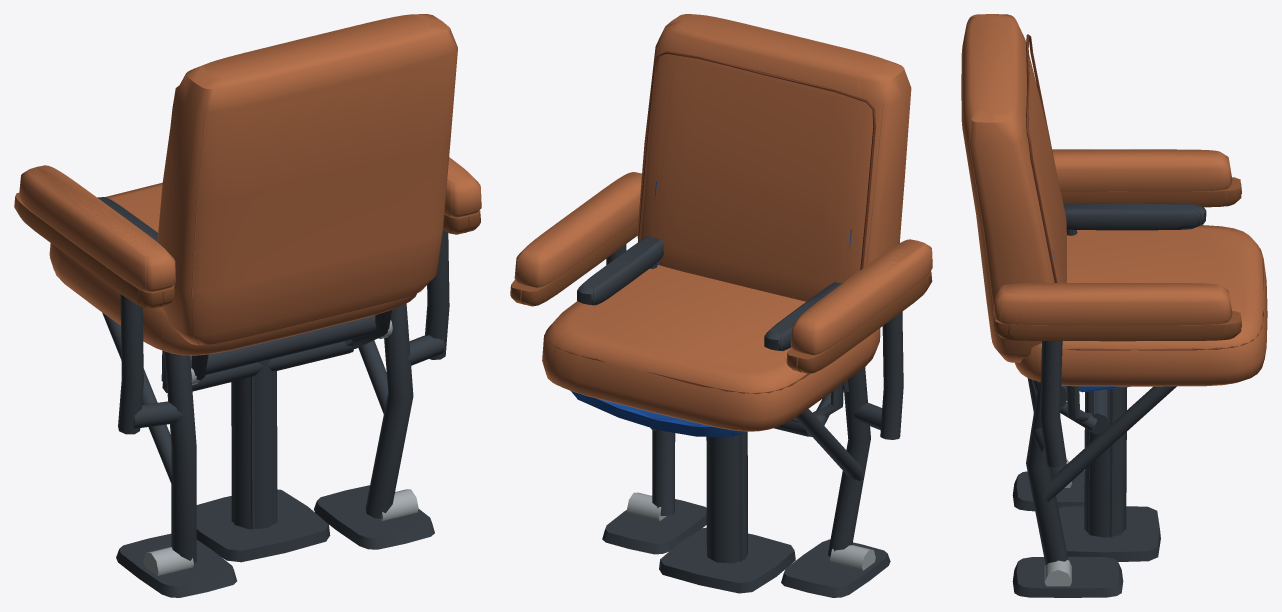
Rendered from seating.glb.
3 renders of one model, left to right at view 1: azimuth 30°, elevation 25°; view 2: azimuth 150°, elevation 25°; view 3: azimuth 270°, elevation 25°, orthographic. The views are drawn at different scales.
Parts seen in each view (by area): view 1: Club_Near_Leather, Club_Far_Mount, Stand_Near_Mount, Club_Far_Leather, Club_Near_Mount, Club_Near_Oak, Stand_Far_Mount, Club_Near_Alloy; view 2: Club_Near_Leather, Club_Far_Leather, Stand_Near_Mount, Club_Far_Mount, Club_Near_Mount, Club_Near_Oak, Stand_Far_Mount, Club_Near_Welt, Club_Near_Alloy, Stand_Far_Resin, Stand_Near_Resin; view 3: Club_Near_Leather, Stand_Near_Mount, Club_Far_Leather, Club_Near_Mount, Club_Near_Oak, Club_Far_Mount, Stand_Far_Mount, Club_Near_Welt, Club_Near_Alloy.
Part boxes in pixels (<box>): Club_Near_Leather: <box>19,14,481,355</box>; Club_Far_Mount: <box>118,230,449,563</box>; Stand_Near_Mount: <box>97,197,391,562</box>; Club_Far_Leather: <box>19,14,480,355</box>; Club_Near_Mount: <box>102,313,434,597</box>; Club_Near_Oak: <box>14,192,480,309</box>; Stand_Far_Mount: <box>127,219,352,529</box>; Club_Near_Alloy: <box>143,489,418,575</box>; Club_Near_Leather: <box>514,14,932,431</box>; Club_Far_Leather: <box>518,14,932,431</box>; Stand_Near_Mount: <box>577,235,843,593</box>; Club_Far_Mount: <box>606,244,903,556</box>; Club_Near_Mount: <box>602,409,890,597</box>; Club_Near_Oak: <box>510,220,932,373</box>; Stand_Far_Mount: <box>577,236,841,561</box>; Club_Near_Welt: <box>545,51,875,394</box>; Club_Near_Alloy: <box>627,492,875,570</box>; Stand_Far_Resin: <box>576,262,732,437</box>; Stand_Near_Resin: <box>571,181,851,436</box>; Club_Near_Leather: <box>961,14,1267,386</box>; Stand_Near_Mount: <box>1032,203,1206,561</box>; Club_Far_Leather: <box>963,16,1260,383</box>; Club_Near_Mount: <box>1012,386,1176,597</box>; Club_Near_Oak: <box>994,177,1241,341</box>; Club_Far_Mount: <box>1026,341,1068,564</box>; Stand_Far_Mount: <box>1063,203,1201,537</box>; Club_Near_Welt: <box>1026,34,1263,350</box>; Club_Near_Alloy: <box>1044,459,1071,586</box>.
Bounding box in the file's own units: 0.728 × 1.07 × 0.626.
